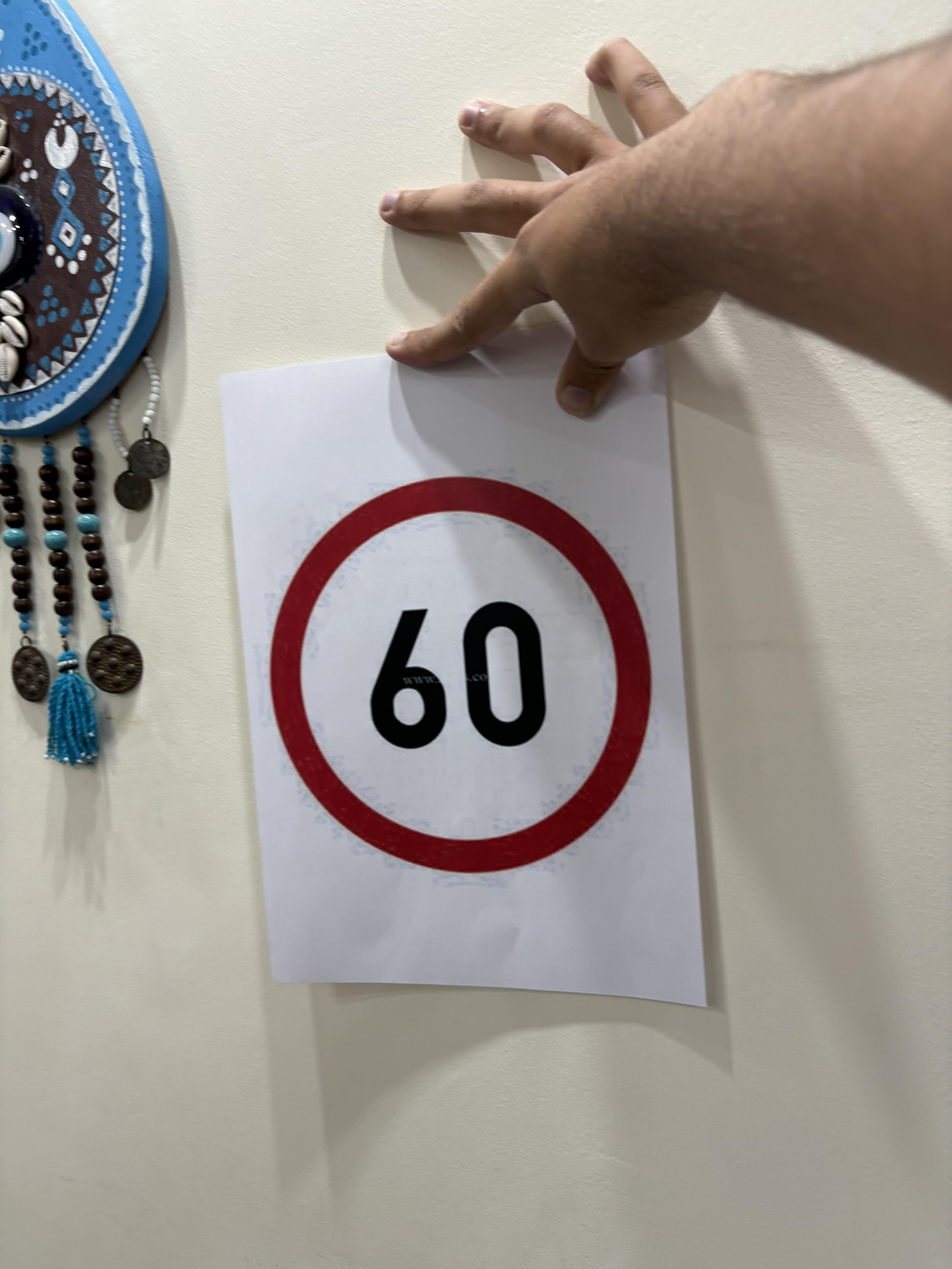60-Speed: (274, 460, 657, 883)
